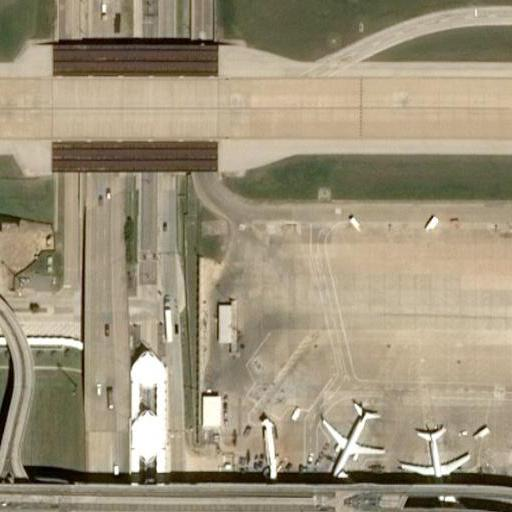Aircraft: (308, 388, 388, 481), (397, 415, 474, 482)
